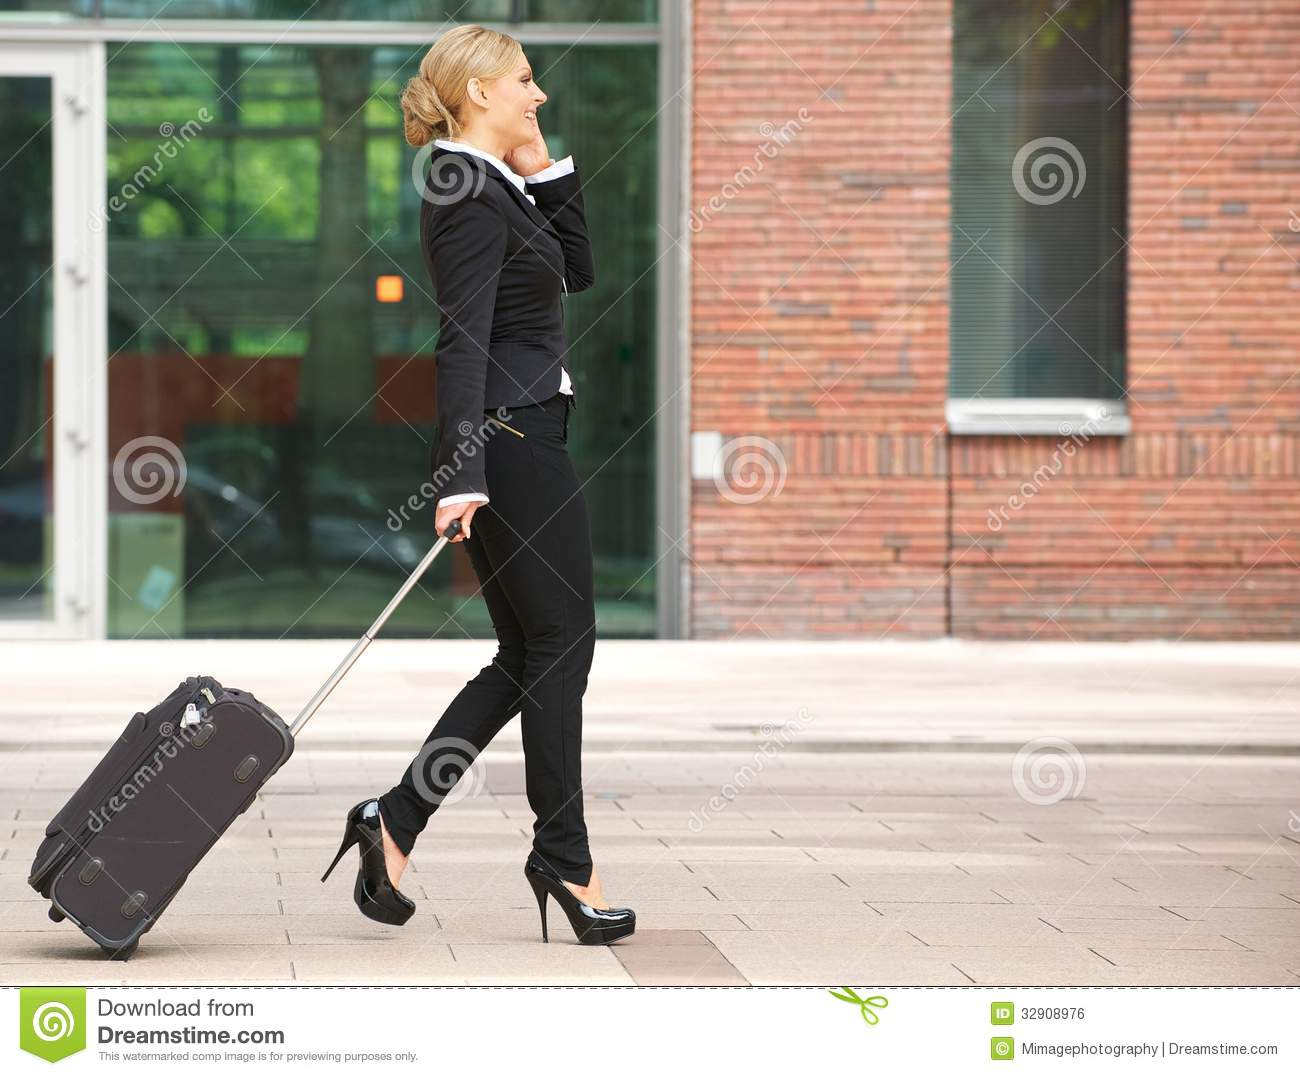talk: (507, 63, 549, 181)
